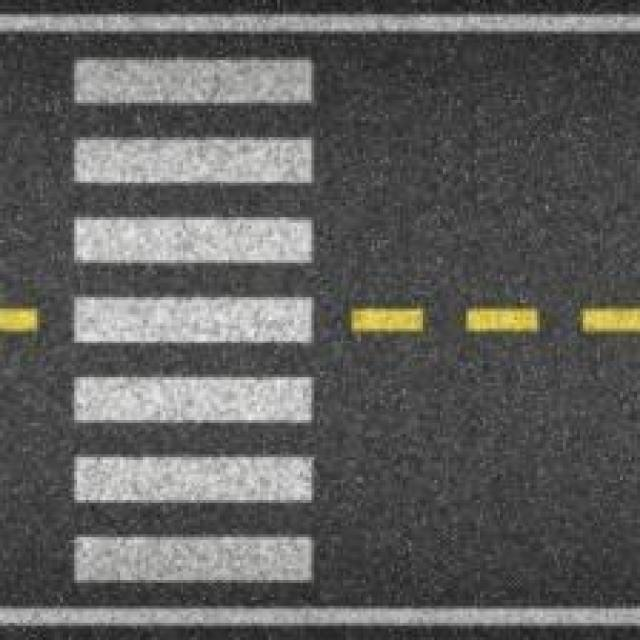walk-crossing: (57, 34, 340, 609)
